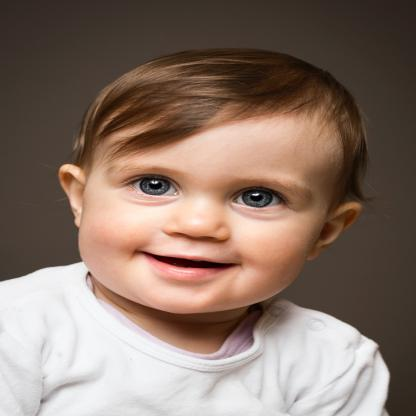Eye: (116, 170, 192, 204), (227, 179, 294, 215)
Mouth: (135, 241, 247, 286)
Nose: (162, 198, 238, 247)
